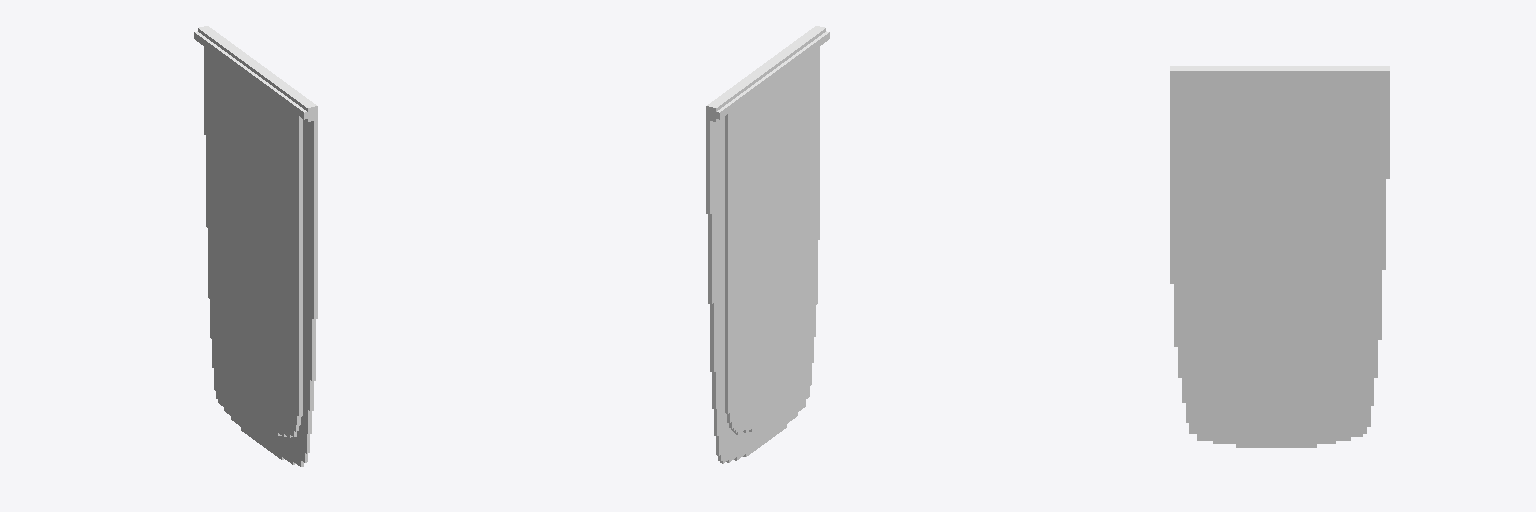
File: BanniereFlower.obj
3 views of the same model, side by side, from view 1: azimuth 30°, elevation 25°; view 2: azimuth 150°, elevation 25°; view 3: azimuth 270°, elevation 25° (orthographic).
Parts seen in each view (by area): view 1: BanniereFlower; view 2: BanniereFlower; view 3: BanniereFlower.
Part boxes in pixels (x1,y1,x2,y2): BanniereFlower: (194, 26, 317, 466); BanniereFlower: (706, 26, 829, 463); BanniereFlower: (1170, 66, 1389, 447).
Size of the model in its own units: 4 by 108 by 57.